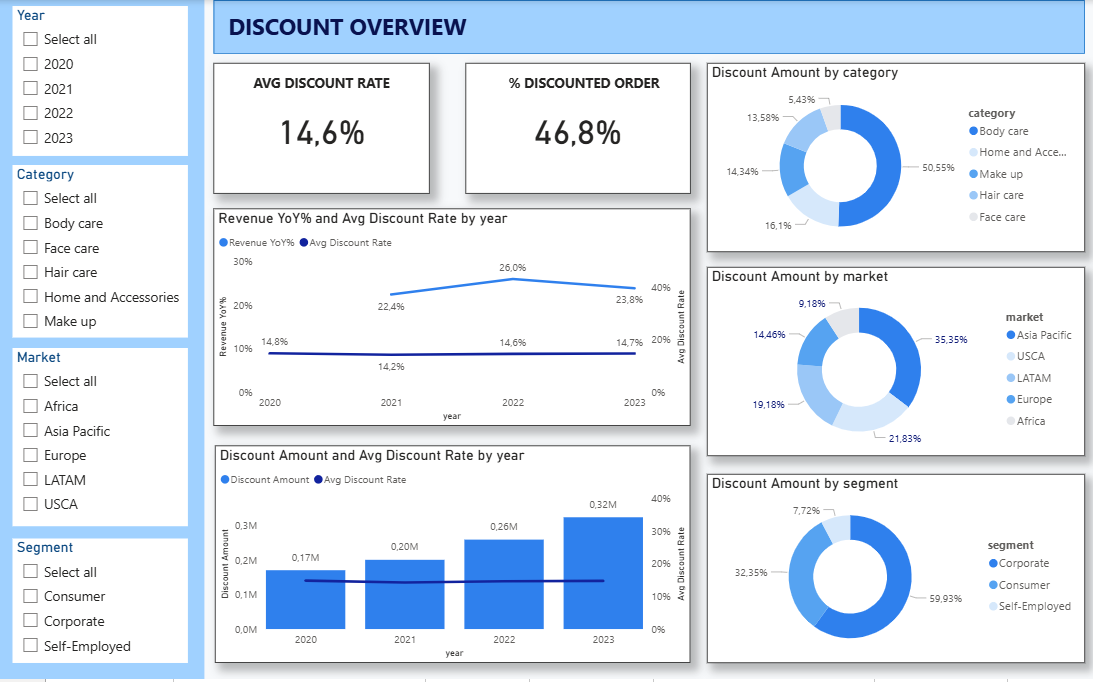

This screenshot's page, from the dashboard's own definition file:
{"tool":"powerbi","page":{"name":"Discount","canvas":[1300,800],"ordinal":5},"visuals":[{"type":"card","fields":{"Values":["sales.Avg Discount Rate"]},"box":[252.7,74.2,254.5,153.8],"z":0},{"type":"card","fields":{"Values":["sales.% Discounted Orders"]},"box":[549.6,74.2,265.1,153.8],"z":1000},{"type":"lineClusteredColumnComboChart","fields":{"Category":["date.year"],"Y2":["sales.Avg Discount Rate"],"Y":["sales.Discount Amount"]},"box":[254.5,524.9,560.2,256.3],"z":2000},{"type":"lineChart","fields":{"Category":["date.year"],"Y":["sales.Revenue YoY%"],"Y2":["sales.Avg Discount Rate"]},"box":[252.7,245.7,562,256.3],"z":3000},{"type":"donutChart","fields":{"Category":["dim_product.category"],"Y":["sales.Discount Amount"]},"box":[834.2,74.2,445.4,222.7],"z":4000},{"type":"donutChart","fields":{"Category":["dim_region.market"],"Y":["sales.Discount Amount"]},"box":[834.2,315,445.4,222.7],"z":5000},{"type":"donutChart","fields":{"Category":["sales.segment"],"Y":["sales.Discount Amount"]},"box":[834.2,558.5,445.4,222.7],"z":6000},{"type":"shape","box":[0,0,242,800.9],"z":7000},{"type":"slicer","title":"Year","fields":{"Values":["date.year"]},"box":[15.9,7.1,206.8,176.7],"z":8000},{"type":"slicer","title":"Category","fields":{"Values":["dim_product.category"]},"box":[15.9,195,206.8,203.2],"z":9000},{"type":"slicer","title":"Market","fields":{"Values":["dim_region.market"]},"box":[15.9,410,206.8,210.3],"z":10000},{"type":"slicer","title":"Segment","fields":{"Values":["sales.segment"]},"box":[15.9,634.5,206.8,146.7],"z":11000},{"type":"shape","box":[253.2,0,1026.8,63.6],"z":12000},{"type":"textbox","box":[265.6,7.9,1007.5,74.8],"z":13000},{"type":"textbox","box":[270.4,81.3,219.2,37.1],"z":14000},{"type":"textbox","box":[579.7,81.3,219.2,37.1],"z":15000}]}

Visuals, with their boxes in screenshot pixels (x1, y1, x2, y2), scaled from the page's 1300x800 canvas onto the 1093x682 screenshot:
card - sales.Avg Discount Rate: [x1=212, y1=63, x2=426, y2=194]
card - sales.% Discounted Orders: [x1=462, y1=63, x2=685, y2=194]
lineClusteredColumnComboChart - date.year x sales.Avg Discount Rate: [x1=214, y1=447, x2=685, y2=666]
lineChart - date.year x sales.Revenue YoY%: [x1=212, y1=209, x2=685, y2=428]
donutChart - dim_product.category x sales.Discount Amount: [x1=701, y1=63, x2=1076, y2=253]
donutChart - dim_region.market x sales.Discount Amount: [x1=701, y1=269, x2=1076, y2=458]
donutChart - sales.segment x sales.Discount Amount: [x1=701, y1=476, x2=1076, y2=666]
shape: [x1=0, y1=0, x2=203, y2=681]
"Year" slicer: [x1=13, y1=6, x2=187, y2=157]
"Category" slicer: [x1=13, y1=166, x2=187, y2=339]
"Market" slicer: [x1=13, y1=350, x2=187, y2=529]
"Segment" slicer: [x1=13, y1=541, x2=187, y2=666]
shape: [x1=213, y1=0, x2=1076, y2=54]
textbox: [x1=223, y1=7, x2=1070, y2=71]
textbox: [x1=227, y1=69, x2=412, y2=101]
textbox: [x1=487, y1=69, x2=672, y2=101]
